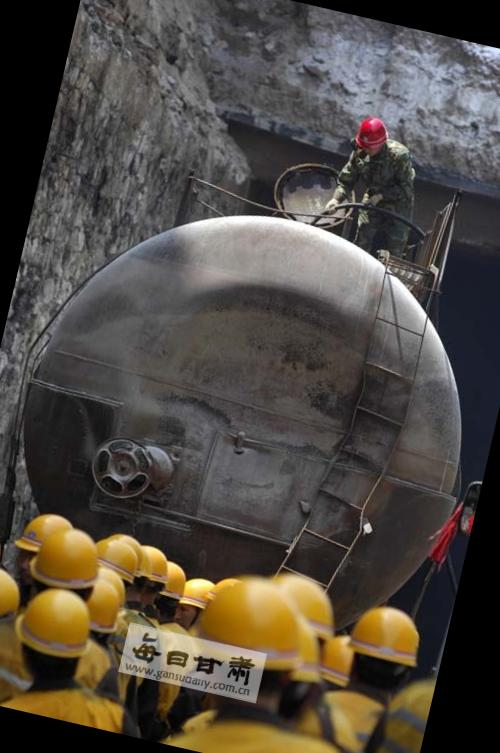helmet: (357, 114, 391, 150)
no_wear: (336, 138, 420, 230)
